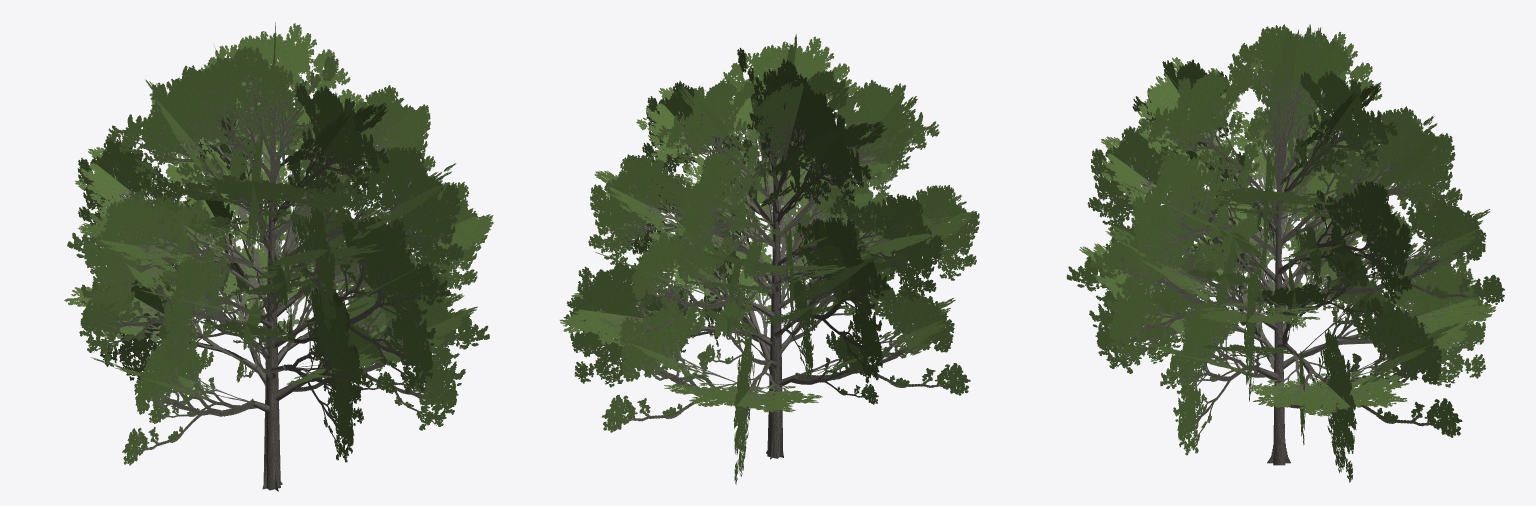
The model's file is tree.glb.
The picture shows the model from 3 angles, left to right: view 1: azimuth 30°, elevation 25°; view 2: azimuth 150°, elevation 25°; view 3: azimuth 270°, elevation 25°; orthographic projection. The views are drawn at different scales.
Visible parts, largest first — view 1: Northern_Red_Oak__Realistic_LOD2; view 2: Northern_Red_Oak__Realistic_LOD2; view 3: Northern_Red_Oak__Realistic_LOD2.
Part boxes in pixels (left/top/right/bottom): Northern_Red_Oak__Realistic_LOD2: left=64, top=22, right=493, bottom=491; Northern_Red_Oak__Realistic_LOD2: left=559, top=34, right=979, bottom=484; Northern_Red_Oak__Realistic_LOD2: left=1066, top=24, right=1504, bottom=482.
Bounding box in the file's own units: 20.49 × 22.37 × 21.5.
1 material, 1 textured.
